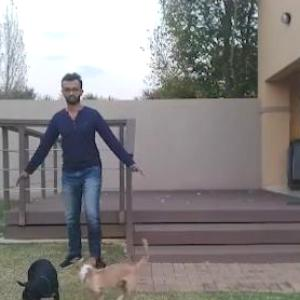land: (26, 72, 146, 278)
